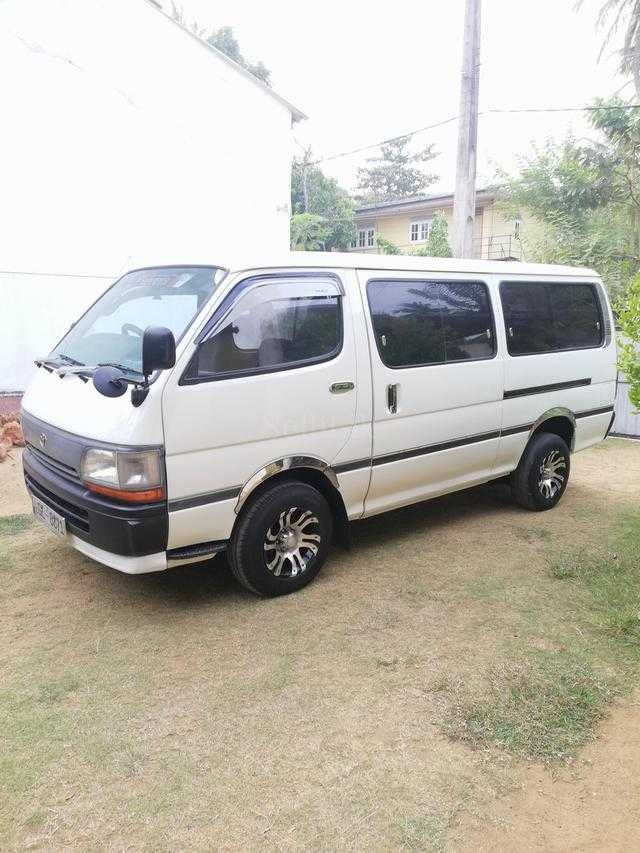van: (20, 252, 618, 599)
